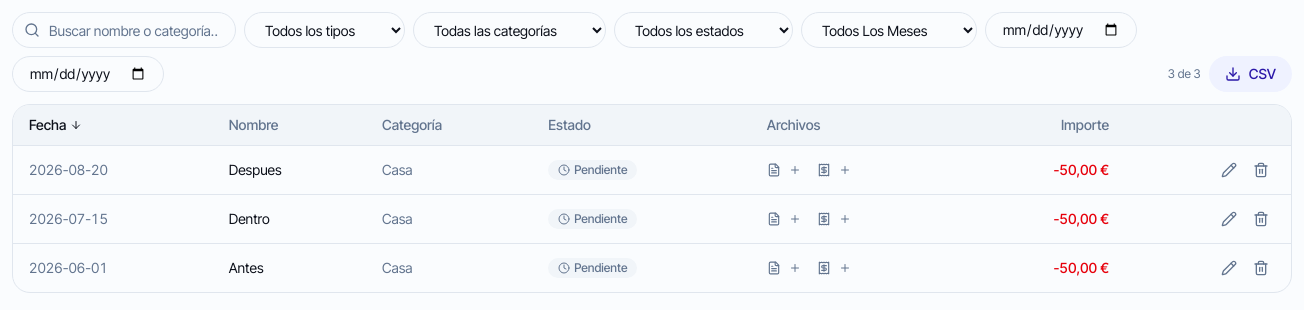
MovimientosTable › filtra por rango de fechas (desde/hasta)
Type "2026-07-01" into the date field named "Desde" at (1061, 30), box [985, 12, 1137, 48]
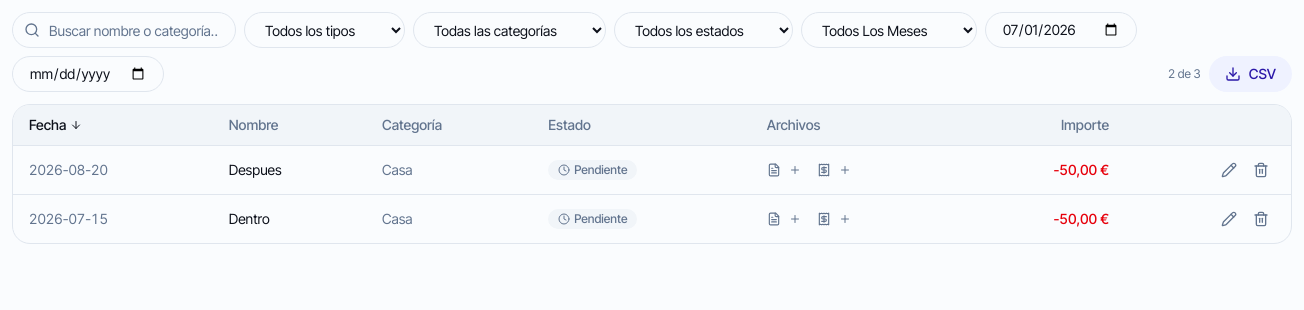
Type "2026-07-31" into the date field named "Hasta" at (88, 74), box [12, 56, 164, 92]
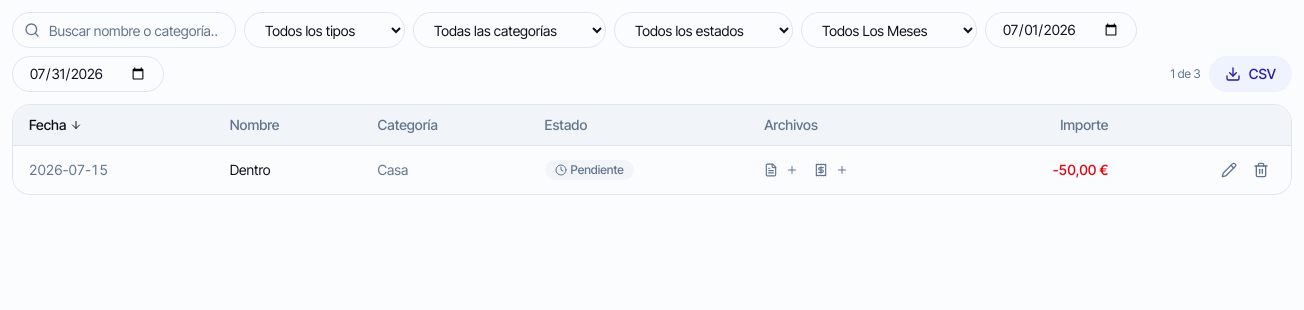
expect the text "Dentro" is shown: met, box [214, 146, 362, 194]
expect the text "Despues" is gone: met
